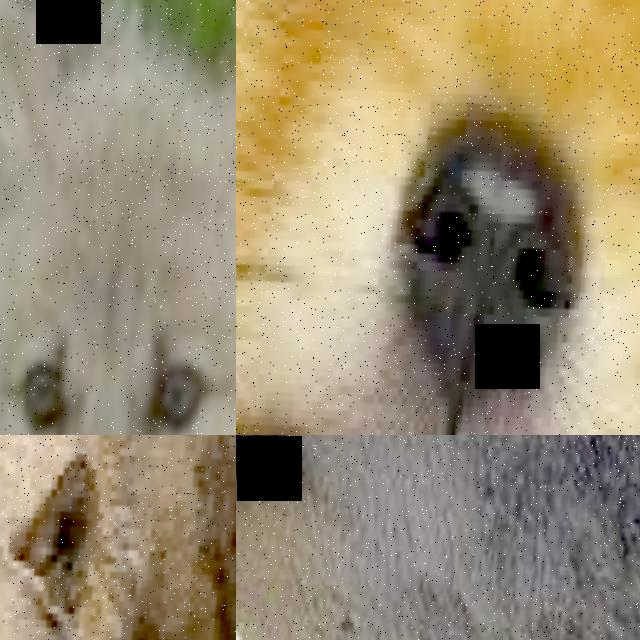dog: (236, 0, 640, 435)
wolf: (0, 0, 236, 435), (236, 435, 640, 640), (0, 435, 236, 640)
